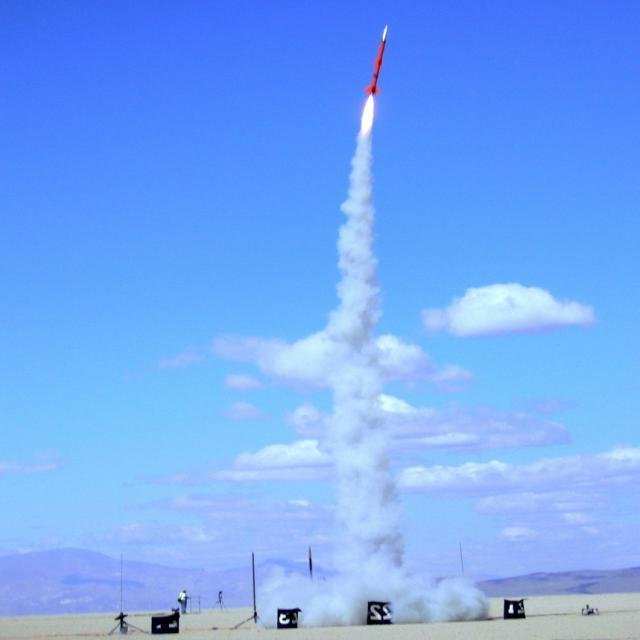Missile: (362, 22, 393, 99)
